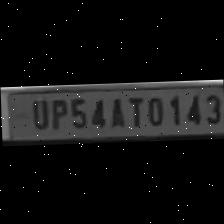0: (142, 92, 164, 125)
1: (164, 92, 182, 126)
3: (200, 89, 222, 124)
4: (86, 94, 106, 128), (181, 90, 201, 124)
5: (64, 94, 88, 129)
A: (103, 94, 125, 128)
P: (46, 94, 66, 130)
T: (123, 93, 143, 128)
U: (25, 95, 47, 130)
